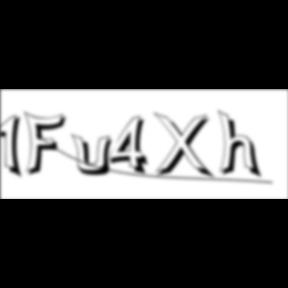1: (0, 114, 28, 182)
4: (108, 115, 154, 179)
F: (24, 110, 72, 178)
X: (153, 112, 217, 182)
h: (218, 108, 264, 182)
u: (71, 132, 119, 178)
